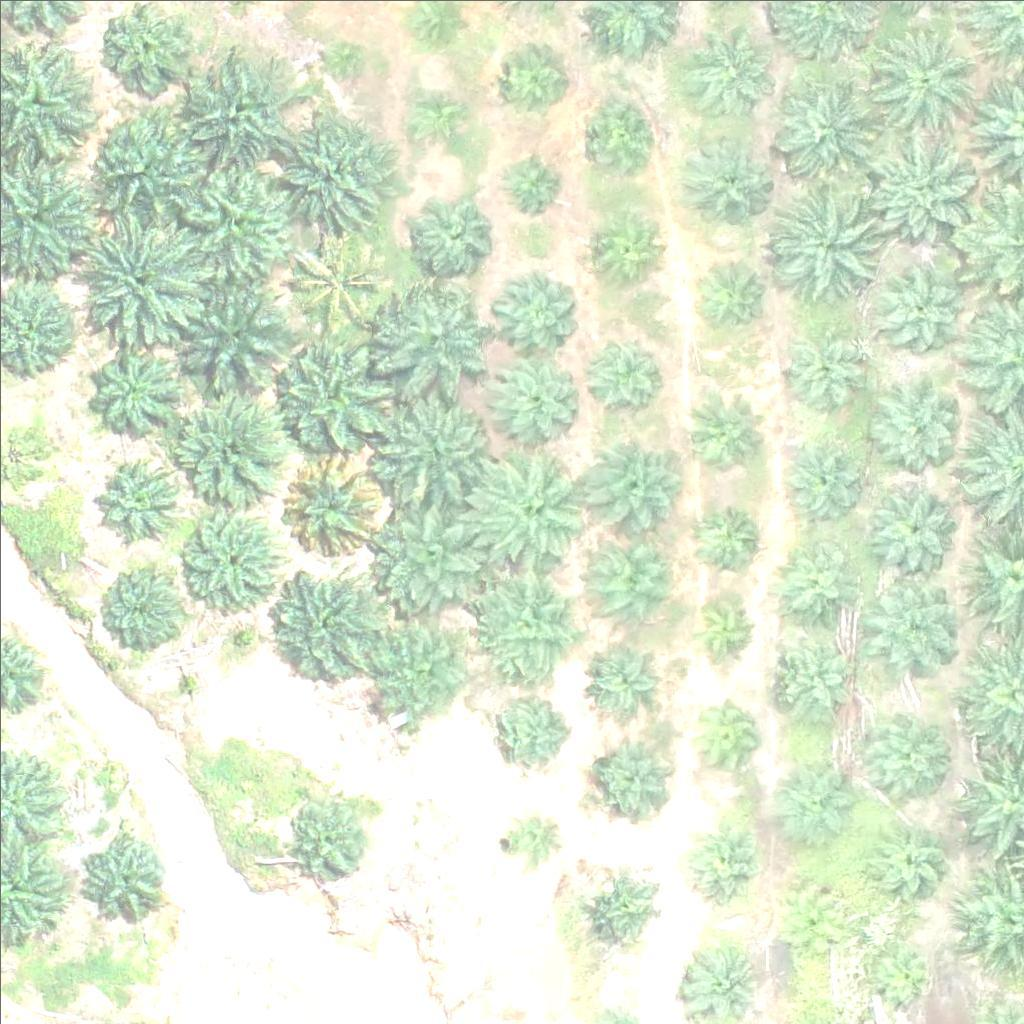Kelapa_Sawit: (467, 450, 592, 576), (763, 177, 888, 303), (859, 129, 984, 255), (264, 565, 389, 691), (270, 331, 395, 457), (367, 384, 492, 510), (370, 278, 495, 404), (168, 389, 293, 515), (172, 158, 297, 284), (265, 111, 390, 237), (84, 215, 209, 341), (75, 96, 200, 222), (179, 52, 304, 178), (375, 486, 500, 611), (169, 274, 294, 399), (281, 229, 394, 343), (274, 449, 387, 562), (363, 614, 475, 728), (174, 498, 286, 612), (473, 563, 585, 676), (478, 350, 578, 451), (85, 346, 185, 447), (783, 80, 883, 180), (874, 32, 974, 132), (586, 520, 686, 620), (584, 727, 672, 815), (686, 30, 774, 118), (492, 269, 580, 357), (772, 534, 860, 622), (775, 317, 863, 405), (866, 577, 954, 665), (869, 488, 957, 576), (872, 260, 960, 348), (81, 829, 169, 917), (861, 707, 948, 796), (581, 630, 668, 718), (283, 788, 370, 876), (590, 442, 677, 530), (774, 626, 861, 714), (782, 432, 869, 520), (876, 377, 963, 465), (687, 137, 774, 225), (413, 189, 500, 277), (90, 459, 177, 547), (95, 564, 182, 652), (589, 864, 664, 940), (686, 389, 761, 465), (691, 500, 766, 576), (685, 588, 760, 664), (487, 701, 562, 777), (586, 97, 661, 173), (872, 822, 947, 897), (775, 758, 850, 833), (688, 831, 763, 906), (682, 698, 757, 773), (689, 254, 764, 329), (589, 214, 664, 289), (580, 334, 655, 409), (498, 40, 573, 115), (407, 79, 470, 142), (783, 886, 846, 949), (495, 805, 557, 868), (501, 156, 563, 219), (875, 947, 937, 1009), (321, 36, 371, 86)
